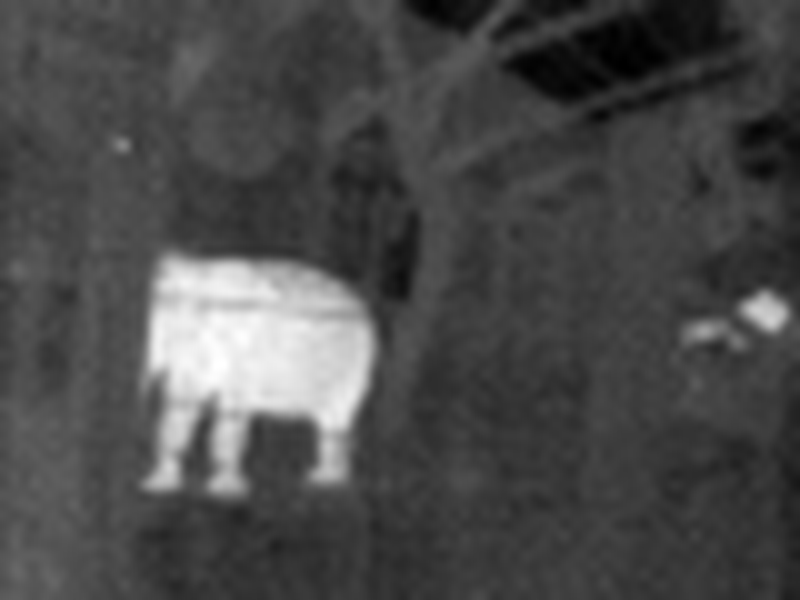elephant: (138, 246, 374, 515)
